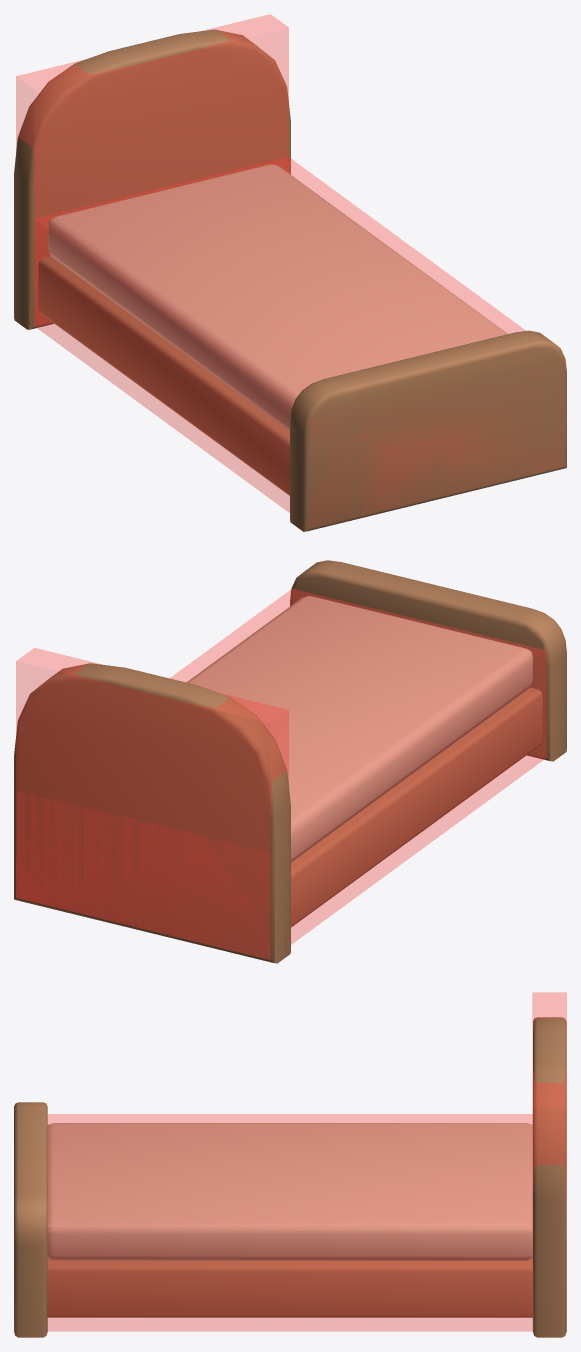
File: SingleBedB03.glb
The picture shows the model from 3 angles, top to bottom: view 1: azimuth 30°, elevation 25°; view 2: azimuth 150°, elevation 25°; view 3: azimuth 270°, elevation 25°; orthographic projection. The views are drawn at different scales.
Visible parts, largest first — view 1: Body_Wood, Col_Bed, Body_Mattress, Col_Headboard; view 2: Body_Wood, Col_Bed, Col_Headboard, Body_Mattress; view 3: Col_Bed, Body_Mattress, Body_Wood, Col_Headboard.
Part boxes in pixels (x1,y1,x2,y2): Body_Wood: [14, 29, 566, 531]; Col_Bed: [34, 157, 564, 527]; Body_Mattress: [48, 164, 507, 430]; Col_Headboard: [16, 14, 288, 325]; Body_Wood: [14, 560, 566, 963]; Col_Bed: [16, 588, 546, 954]; Col_Headboard: [16, 648, 288, 959]; Body_Mattress: [186, 596, 532, 862]; Col_Bed: [14, 1114, 532, 1331]; Body_Mattress: [47, 1123, 532, 1260]; Body_Wood: [14, 1017, 566, 1337]; Col_Headboard: [532, 992, 566, 1330].
Bounding box in the file's own units: 3.72 × 3.32 × 7.2.
